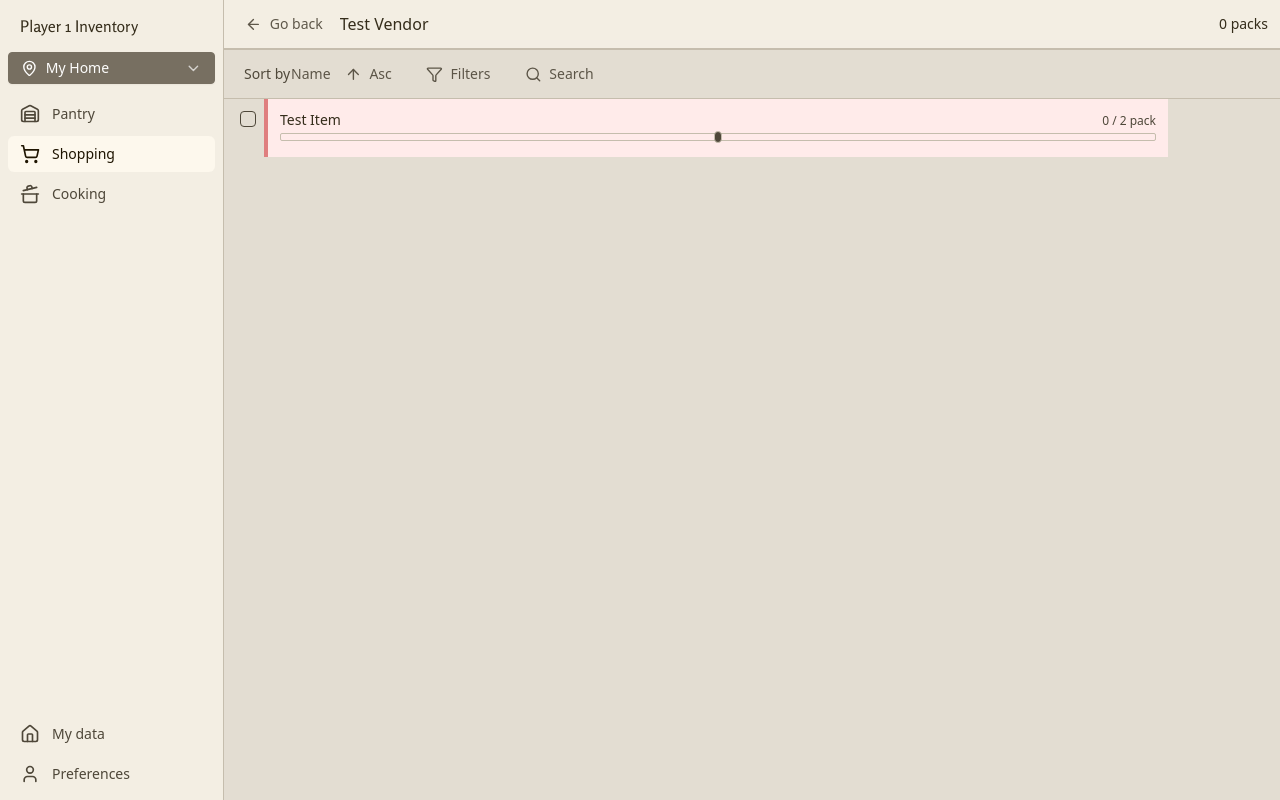
Scenario: Vendor cart page › item checkbox is enabled once cart has loaded (guards against cloud-mode loading race)
When user clicks the checkbox
Step 1. Click the checkbox named "test item" → (248, 119), box [240, 111, 256, 127]
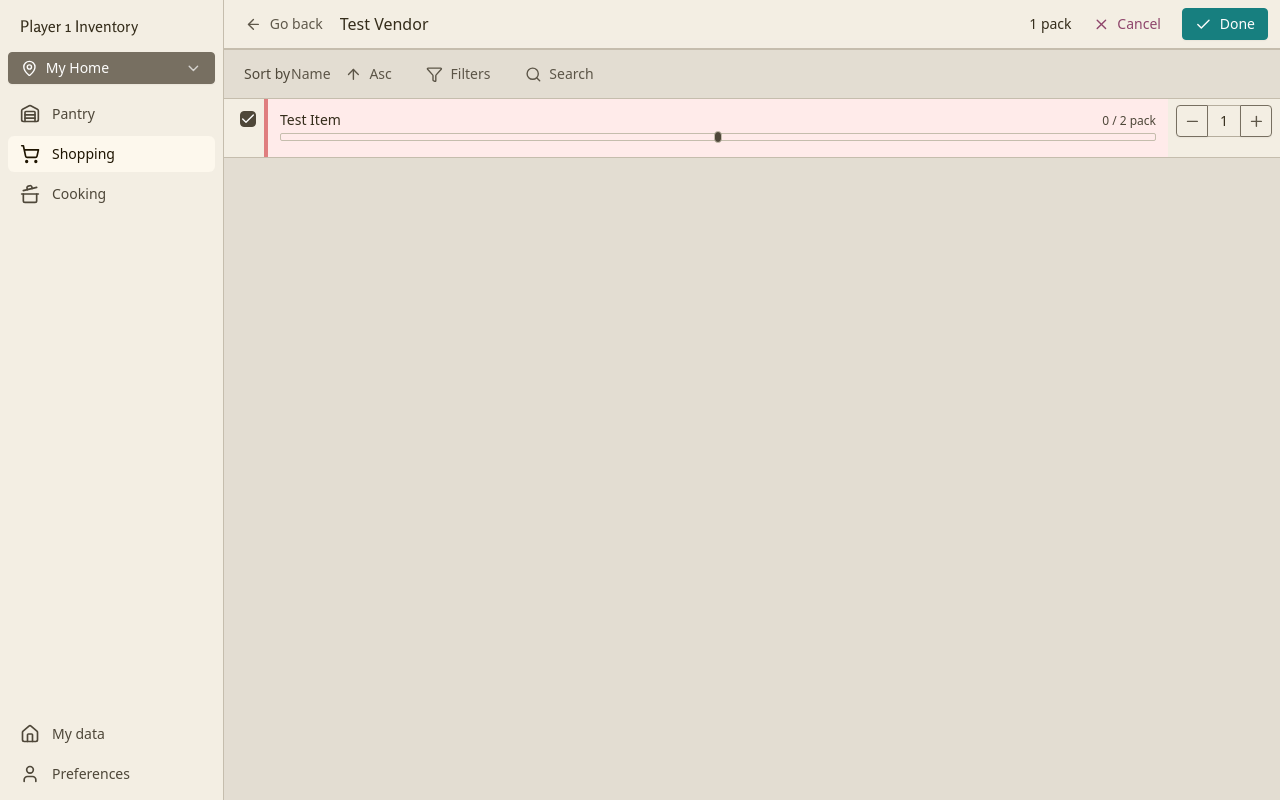
Result: the text "1 pack" is shown at [1029, 14, 1072, 34]
